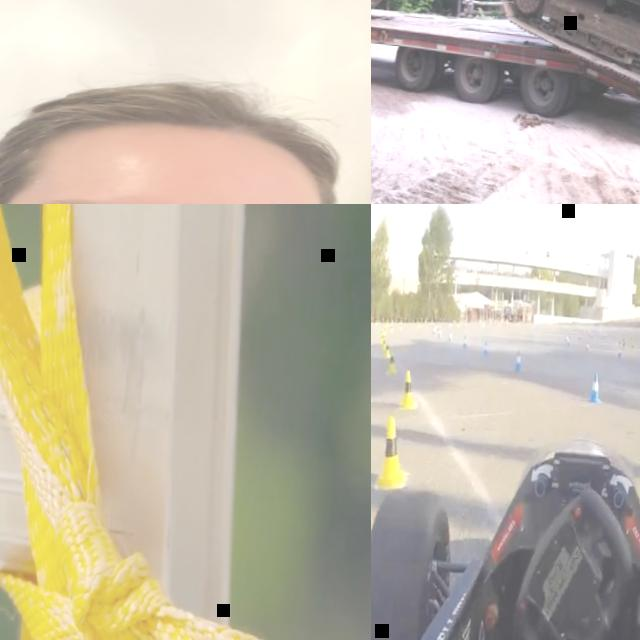NO-Hardhat: (9, 64, 363, 184)
Person: (0, 50, 371, 204)
Safety Cone: (377, 414, 407, 492), (397, 370, 420, 418), (586, 367, 605, 408), (513, 346, 524, 376), (387, 352, 398, 376), (482, 338, 490, 362), (384, 342, 391, 359), (463, 336, 469, 351)
vehicle: (371, 426, 640, 640), (371, 0, 640, 169), (371, 0, 603, 111)
